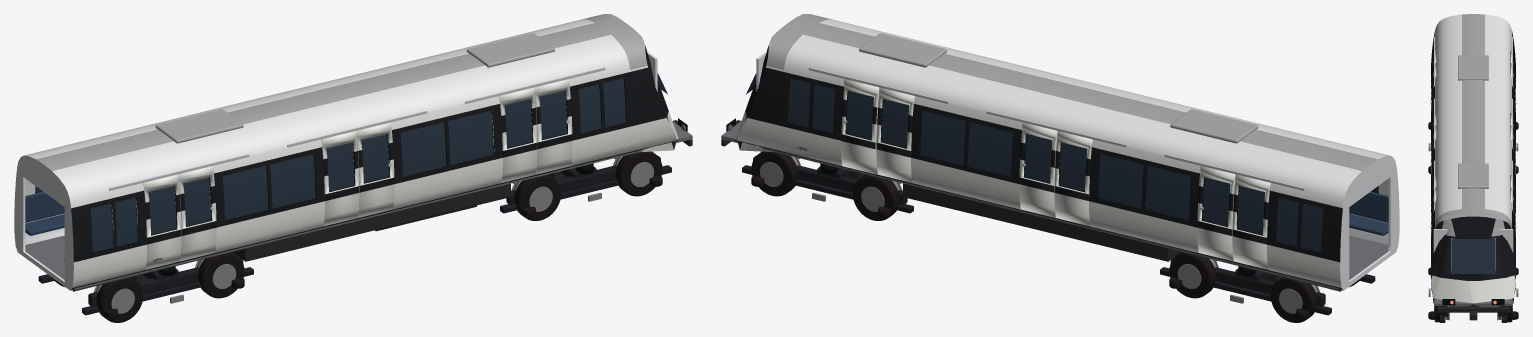
File: mp89_ca__tail.glb
3 renders of one model, left to right at view 1: azimuth 30°, elevation 25°; view 2: azimuth 150°, elevation 25°; view 3: azimuth 270°, elevation 25°, orthographic. The views are drawn at different scales.
Visible parts, largest first — view 1: mp89_ca_tail; view 2: mp89_ca_tail; view 3: mp89_ca_tail.
Boxes of the visible parts, <box> form: mp89_ca_tail: <box>14,14,692,322</box>; mp89_ca_tail: <box>721,14,1399,322</box>; mp89_ca_tail: <box>1428,14,1518,322</box>.
Size of the model in its own units: 15.05 by 3.47 by 2.6.
Materials: 9 (4 with a texture image).
